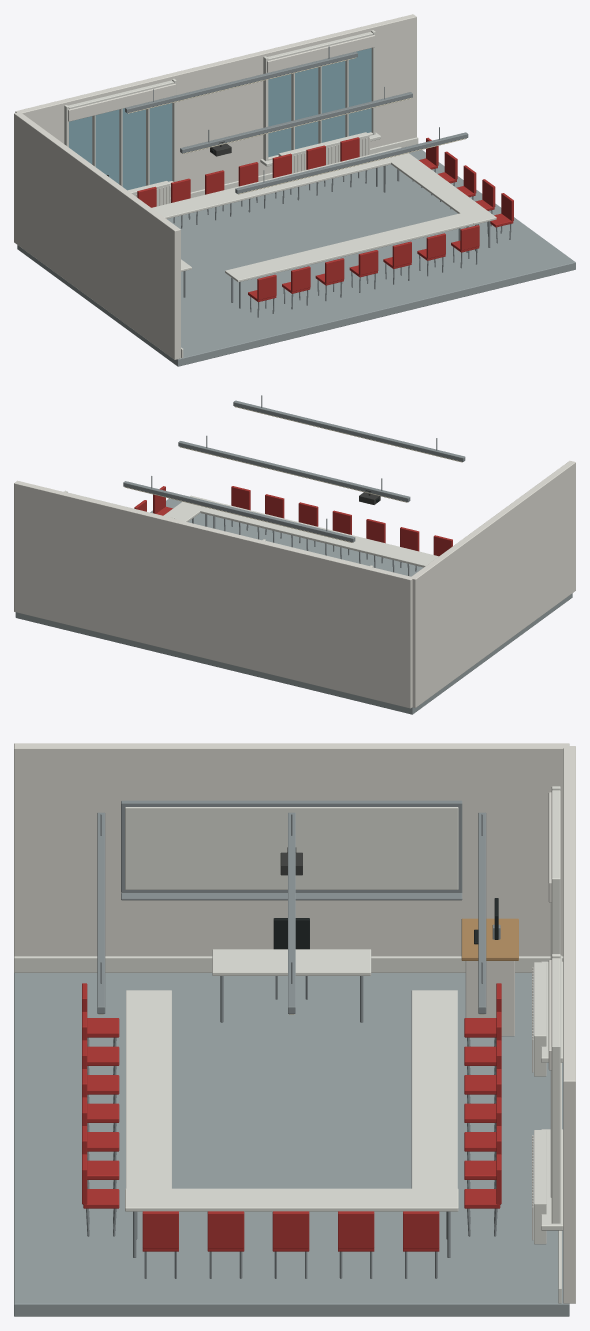
File: sal-interior.glb
3 renders of one model, top to bottom at view 1: azimuth 30°, elevation 25°; view 2: azimuth 150°, elevation 25°; view 3: azimuth 270°, elevation 25°, orthographic. The views are drawn at different scales.
Parts seen in each view (by area): view 1: SAL_INTERIOR; view 2: SAL_INTERIOR; view 3: SAL_INTERIOR.
Part boxes in pixels (x1=…): SAL_INTERIOR: x1=14, y1=14, x2=575, y2=366; SAL_INTERIOR: x1=14, y1=395, x2=575, y2=714; SAL_INTERIOR: x1=14, y1=743, x2=575, y2=1316.
Bounding box in the file's own units: 10.08 × 3.63 × 7.08.
